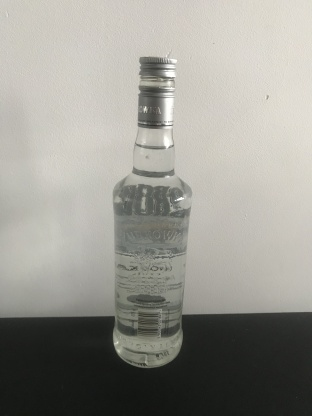nakretka: (135, 51, 178, 127)
